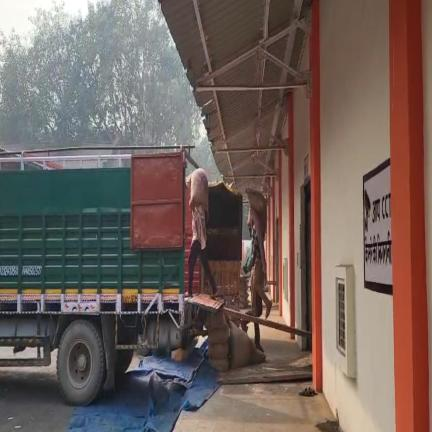Zone-Counting: (186, 168, 217, 296), (245, 188, 272, 319)
